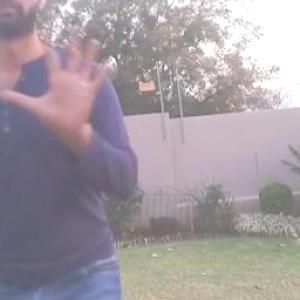follow_hand: (1, 19, 117, 130)
